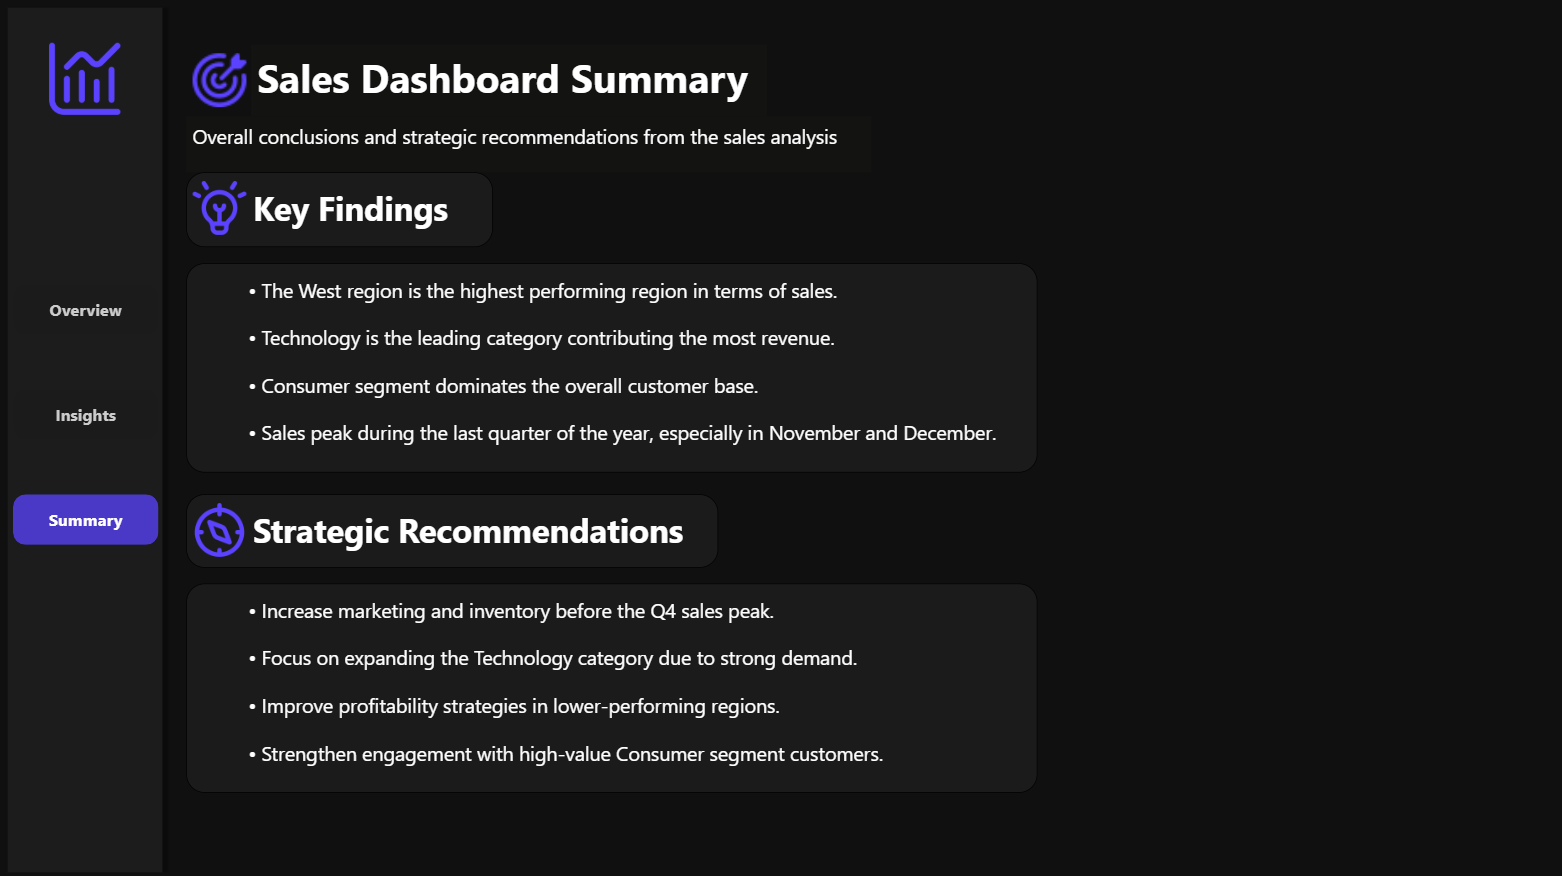

Layout of this report page (visuals, bound fields, positions):
{"tool":"powerbi","page":{"name":"Summary","canvas":[1280,720],"ordinal":2},"visuals":[{"type":"textbox","box":[206.4,37,421.4,58.4],"z":0},{"type":"shape","box":[0,0,140.4,720],"z":1000},{"type":"actionButton","box":[10.8,232.2,118.8,41.4],"z":2000},{"type":"actionButton","box":[10.8,318.6,118.8,41.4],"z":3000},{"type":"actionButton","box":[10.8,405,118.8,41.4],"z":4000},{"type":"textbox","box":[152.3,95.4,559.5,45.6],"z":5000},{"type":"textbox","box":[152.3,140.9,250.6,61.2],"z":6000},{"type":"textbox","box":[152.3,216.4,694.7,170.8],"z":7000},{"type":"textbox","box":[152.3,404.3,434.2,59.8],"z":8000},{"type":"textbox","box":[152.3,476.9,694.7,170.8],"z":9000},{"type":"image","box":[152.3,44.1,54.1,44.1],"z":10000},{"type":"image","box":[152.3,148.1,54.1,44.1],"z":11000},{"type":"image","box":[152.3,411.4,54.1,44.1],"z":12000},{"type":"image","box":[21.4,35.7,97.1,58.6],"z":13000}]}

Visuals, with their boxes in screenshot pixels (x1, y1, x2, y2), scaled from the page's 1280x720 canvas onto the 1562x876 screenshot:
textbox: (left=252, top=45, right=766, bottom=116)
shape: (left=0, top=0, right=171, bottom=875)
actionButton: (left=13, top=283, right=158, bottom=333)
actionButton: (left=13, top=388, right=158, bottom=438)
actionButton: (left=13, top=493, right=158, bottom=543)
textbox: (left=186, top=116, right=869, bottom=172)
textbox: (left=186, top=171, right=492, bottom=246)
textbox: (left=186, top=263, right=1034, bottom=471)
textbox: (left=186, top=492, right=716, bottom=565)
textbox: (left=186, top=580, right=1034, bottom=788)
image: (left=186, top=54, right=252, bottom=107)
image: (left=186, top=180, right=252, bottom=234)
image: (left=186, top=501, right=252, bottom=554)
image: (left=26, top=43, right=145, bottom=115)
